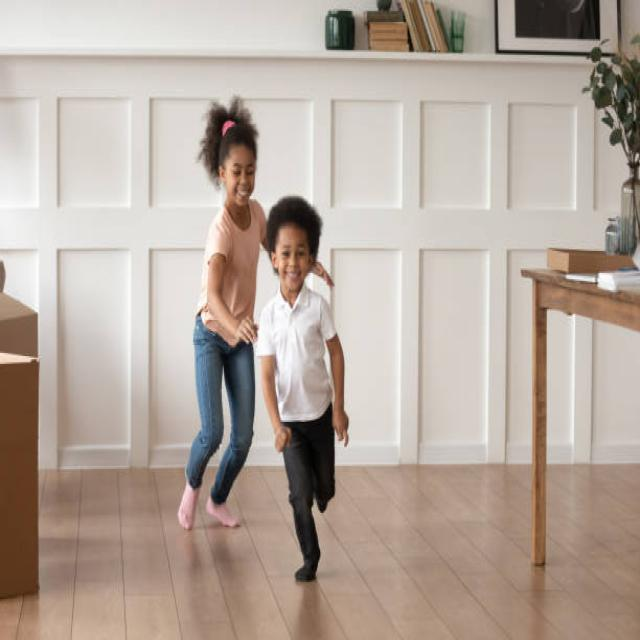Person: (176, 94, 266, 532), (257, 195, 350, 580)
